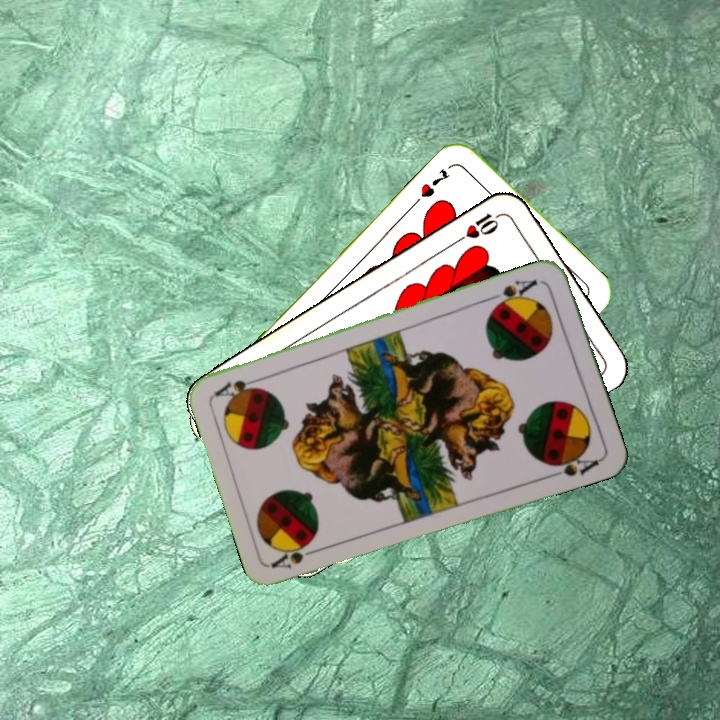H10: (452, 208, 505, 246)
H7: (416, 164, 453, 200)
SA: (486, 274, 541, 311), (268, 539, 326, 572)
